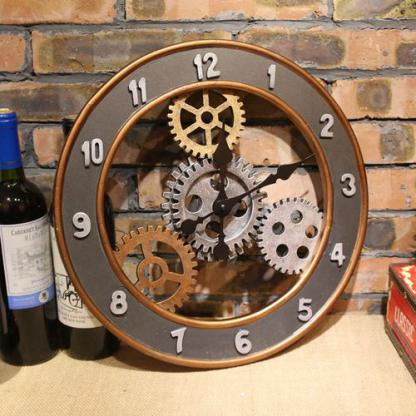FOD: (106, 223, 202, 314), (166, 85, 247, 161), (257, 194, 325, 280)
